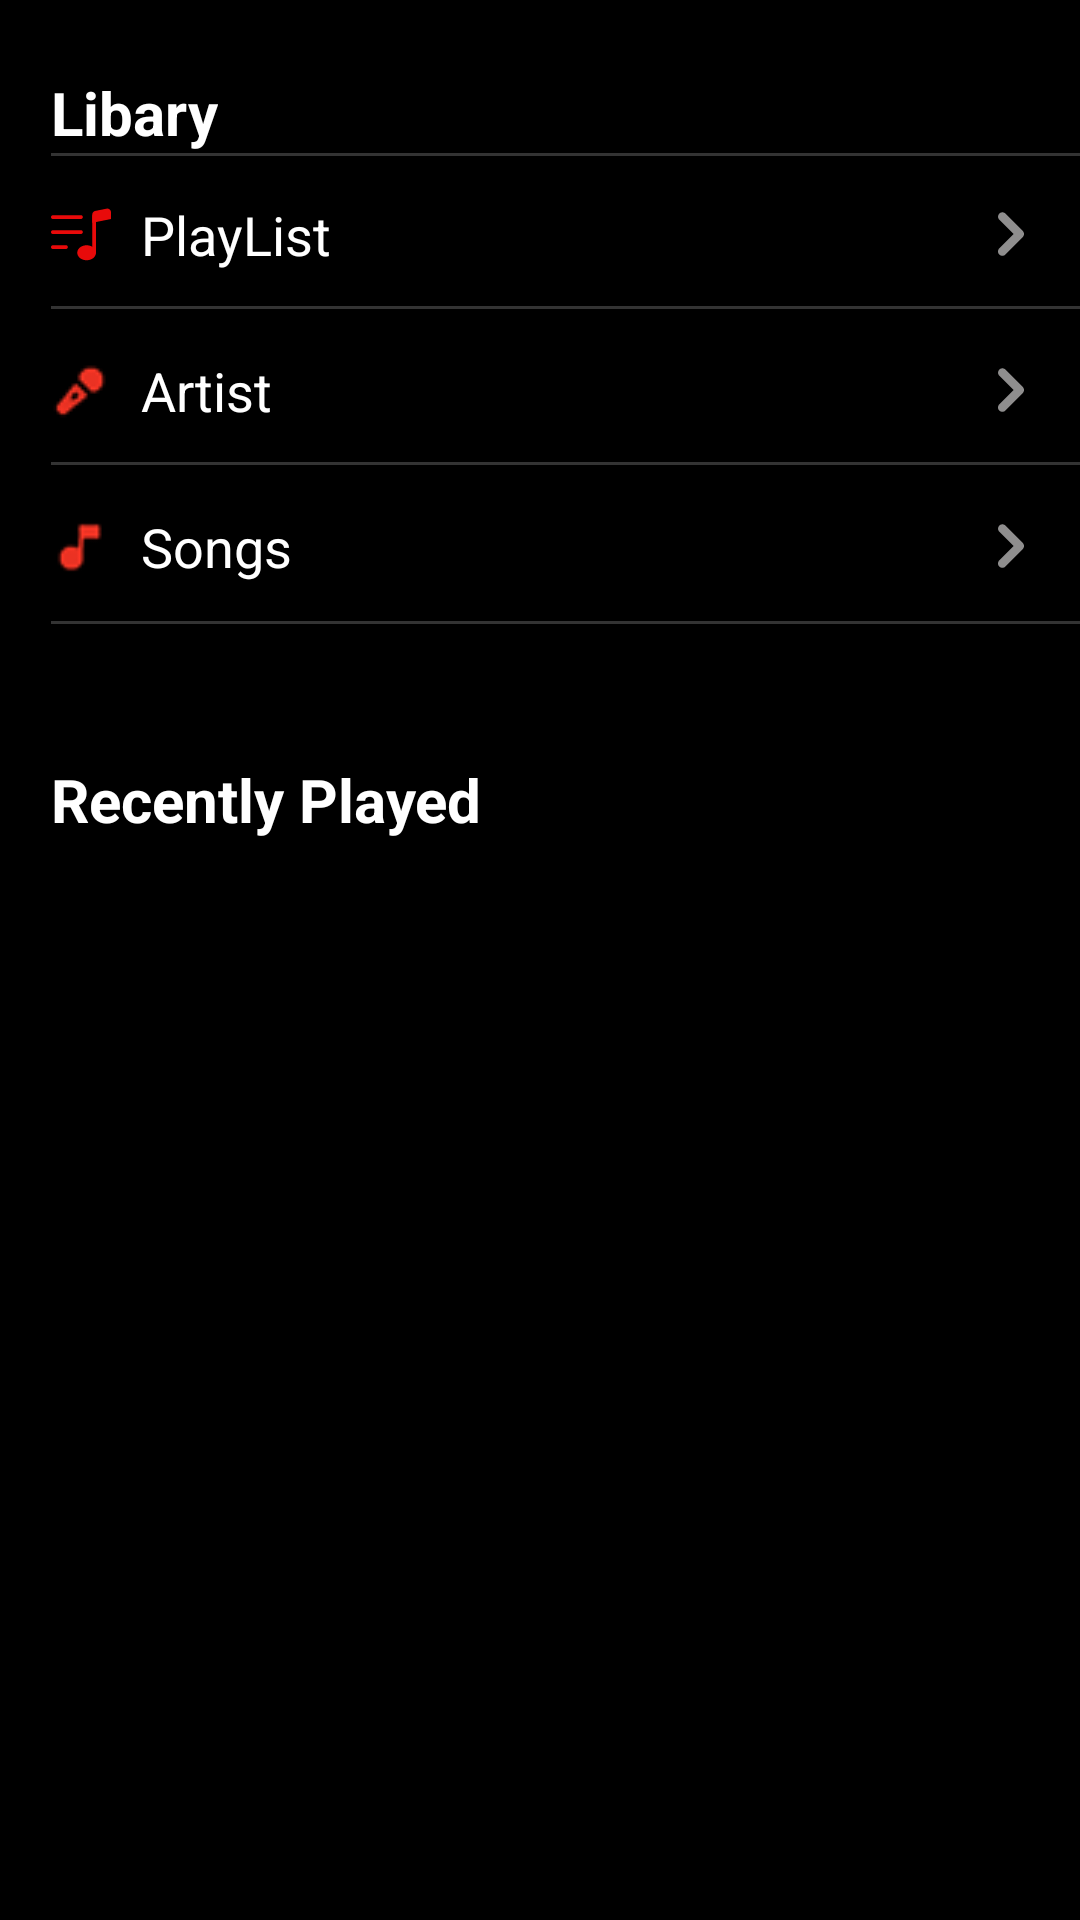

Icons on this 1080px×1920px Android screen, each with the point to tap as point (x, y):
arrow: point (1011, 234), point (1011, 390), point (1011, 546)
micro: point (80, 390)
music: point (80, 547)
